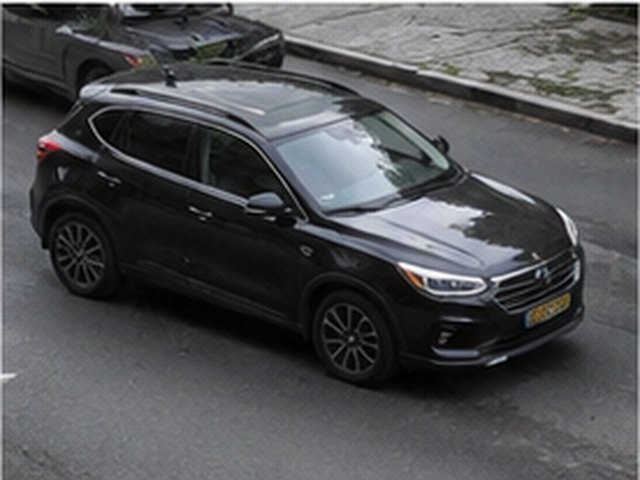whitevan: (30, 65, 582, 383), (2, 3, 283, 97)
